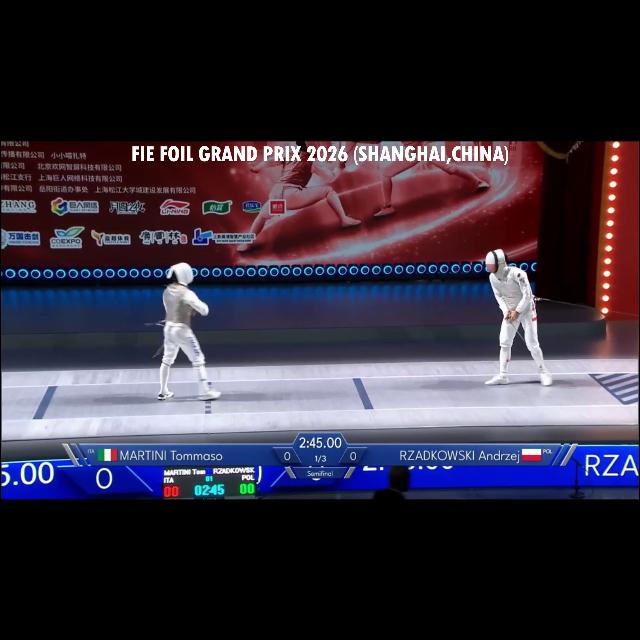blade: (505, 314, 529, 346)
